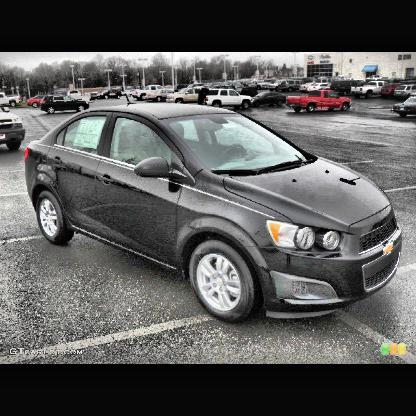Chevrolet Sonic Sedan 2012: (25, 87, 404, 327)
